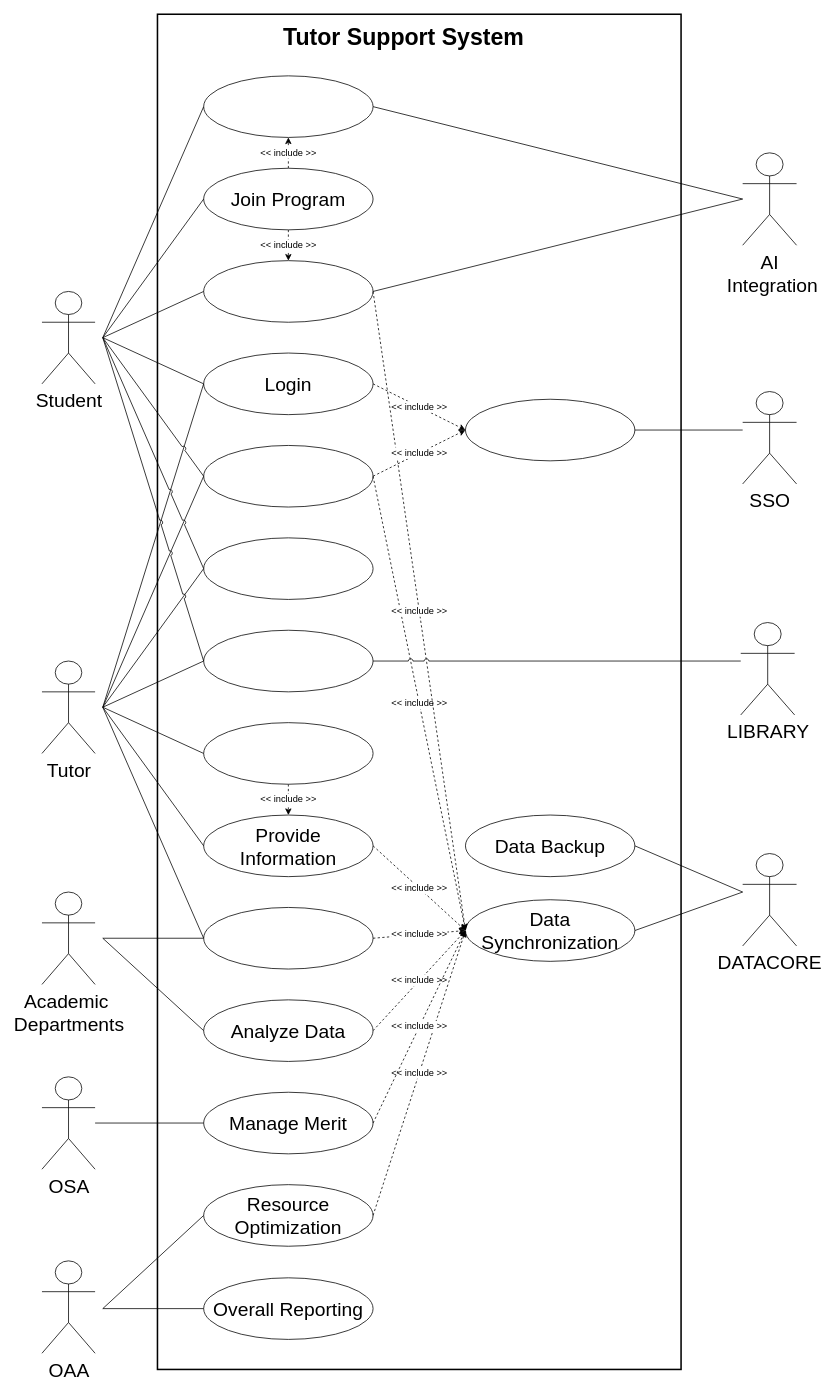
This 835x1394 diagram has some shape labels left out. The shapes that lost their labels are listed below. From the top down, each one's box as (x1, y1, x2, y2) in pixels, then its label:
(203, 75, 373, 137): View Courses
(203, 260, 373, 322): Tutor Matching
(465, 398, 635, 461): Access Control
(203, 445, 373, 507): Accout Management
(203, 537, 373, 599): Support
(203, 629, 373, 692): Access/Share Resources
(203, 722, 373, 784): Organize Sessions
(203, 907, 373, 969): Monitor Progress
